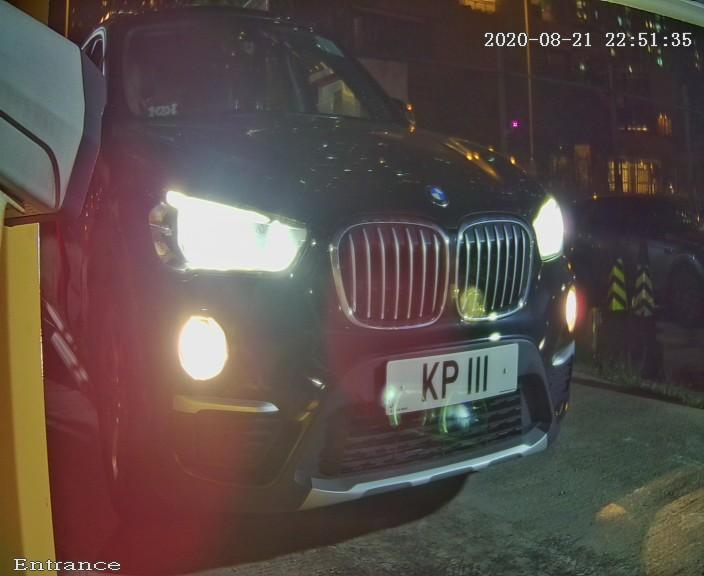License Plate: (352, 320, 550, 434)
